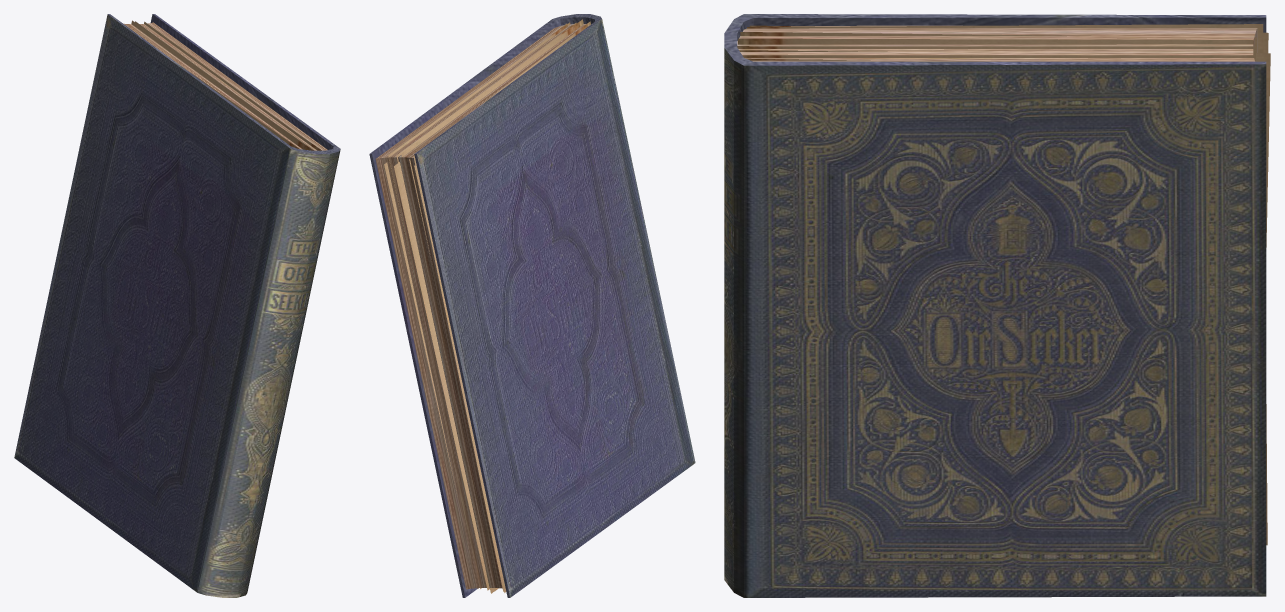
File: BSN_Education_Ani_BookE.gltf
3 views of the same model, side by side, from view 1: azimuth 30°, elevation 25°; view 2: azimuth 150°, elevation 25°; view 3: azimuth 270°, elevation 25° (orthographic). The views are drawn at different scales.
Parts seen in each view (by area): view 1: book9.002; view 2: book9.002; view 3: book9.002.
Boxes of the visible parts, x1,y1,x2,y2 form: book9.002: (14, 14, 340, 597); book9.002: (369, 14, 695, 597); book9.002: (724, 14, 1270, 597).
Size of the model in its own units: 3.09 by 8.94 by 7.21.
1 material, 1 textured.
